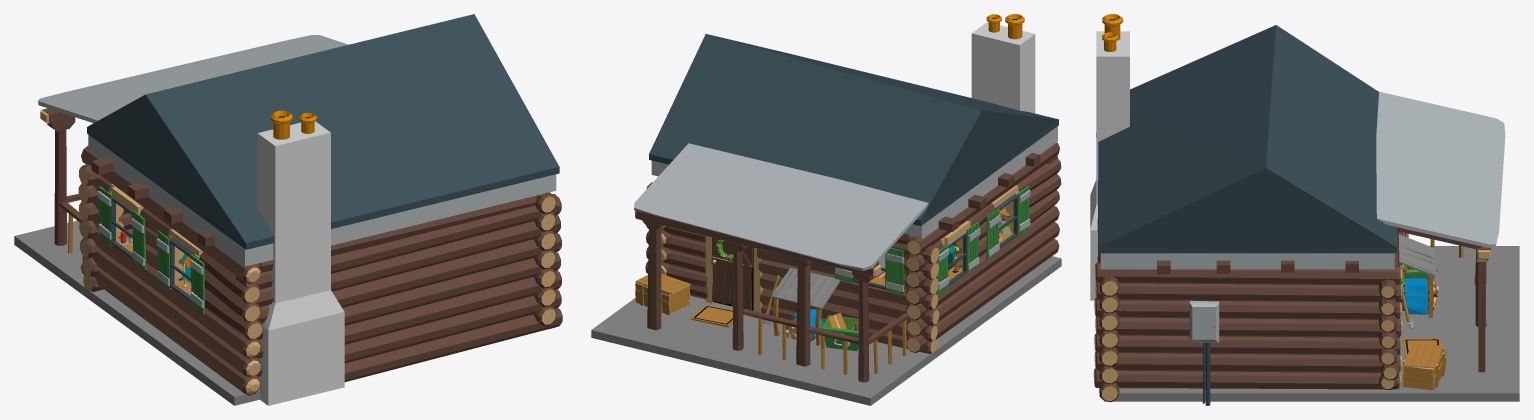
Rendered from winter-cabin.gltf.
3 views of the same model, side by side, from view 1: azimuth 30°, elevation 25°; view 2: azimuth 150°, elevation 25°; view 3: azimuth 270°, elevation 25° (orthographic). The views are drawn at different scales.
Parts seen in each view (by area): view 1: node_MeshObject-920652800-PolyPaper21, node_MeshObject513918976-PolyPaper19, node_MeshObject1085998080-PolyPaper18, node_MeshObject1658077184-PolyPaper19, node_MeshObject1948490752-PolyPaper20, node_MeshObject-1492731904-PolyPaper20; view 2: node_MeshObject513918976-PolyPaper19, node_MeshObject-920652800-PolyPaper21, node_MeshObject1085998080-PolyPaper18, node_MeshObject1658077184-PolyPaper19, node_MeshObject1948490752-PolyPaper20, node_MeshObject-1492731904-PolyPaper20; view 3: node_MeshObject513918976-PolyPaper19, node_MeshObject-920652800-PolyPaper21, node_MeshObject1948490752-PolyPaper20, node_MeshObject1085998080-PolyPaper18, node_MeshObject-1492731904-PolyPaper20, node_MeshObject1658077184-PolyPaper19.
Part boxes in pixels (x1=…): node_MeshObject-920652800-PolyPaper21: x1=88, y1=14, x2=559, y2=376; node_MeshObject513918976-PolyPaper19: x1=14, y1=35, x2=556, y2=405; node_MeshObject1085998080-PolyPaper18: x1=59, y1=194, x2=562, y2=381; node_MeshObject1658077184-PolyPaper19: x1=79, y1=146, x2=269, y2=323; node_MeshObject1948490752-PolyPaper20: x1=84, y1=110, x2=555, y2=338; node_MeshObject-1492731904-PolyPaper20: x1=83, y1=222, x2=260, y2=357; node_MeshObject513918976-PolyPaper19: x1=591, y1=22, x2=1061, y2=405; node_MeshObject-920652800-PolyPaper21: x1=651, y1=35, x2=1059, y2=350; node_MeshObject1085998080-PolyPaper18: x1=742, y1=158, x2=1061, y2=374; node_MeshObject1658077184-PolyPaper19: x1=762, y1=142, x2=1059, y2=340; node_MeshObject1948490752-PolyPaper20: x1=712, y1=14, x2=1061, y2=353; node_MeshObject-1492731904-PolyPaper20: x1=635, y1=235, x2=986, y2=353; node_MeshObject513918976-PolyPaper19: x1=1090, y1=25, x2=1519, y2=401; node_MeshObject-920652800-PolyPaper21: x1=1096, y1=25, x2=1437, y2=295; node_MeshObject1948490752-PolyPaper20: x1=1094, y1=14, x2=1435, y2=405; node_MeshObject1085998080-PolyPaper18: x1=1097, y1=182, x2=1475, y2=401; node_MeshObject-1492731904-PolyPaper20: x1=1402, y1=343, x2=1446, y2=390; node_MeshObject1658077184-PolyPaper19: x1=1101, y1=260, x2=1414, y2=400.
Size of the model in its own units: 1.6 by 1.26 by 1.87.
